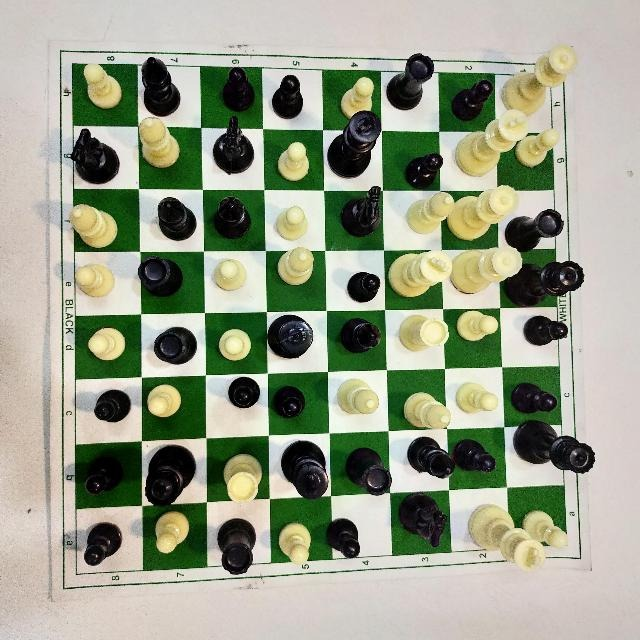black-bishop: (138, 48, 188, 115), (335, 309, 389, 364), (403, 433, 457, 481), (154, 192, 203, 244), (211, 185, 253, 240)
black-king: (326, 110, 388, 181), (278, 431, 334, 500), (264, 311, 317, 358)
black-knight: (66, 119, 125, 185), (399, 485, 451, 555), (335, 179, 391, 240), (212, 114, 258, 175)
black-pawn: (77, 446, 127, 498), (81, 518, 127, 574), (448, 74, 493, 128), (218, 65, 262, 119), (520, 312, 574, 356), (267, 68, 311, 121), (323, 515, 363, 571), (88, 382, 136, 427), (449, 436, 499, 477), (220, 377, 268, 418), (504, 378, 557, 414), (406, 149, 449, 190), (346, 263, 385, 305), (274, 379, 308, 421)
black-queen: (511, 416, 602, 479), (502, 256, 592, 306), (140, 440, 199, 502)
black-rook: (385, 45, 439, 113), (501, 202, 566, 252), (343, 441, 397, 501), (214, 515, 262, 580), (135, 252, 185, 301), (146, 323, 196, 371)
white-bishop: (62, 196, 127, 253), (137, 112, 187, 171), (403, 188, 459, 240), (396, 386, 453, 434), (334, 371, 382, 420), (272, 242, 316, 290)
white-king: (467, 500, 547, 578), (451, 107, 532, 179), (388, 248, 456, 301)
white-pawn: (79, 56, 131, 114), (454, 301, 503, 353), (524, 506, 574, 554), (150, 506, 198, 556), (512, 124, 564, 169), (271, 136, 316, 186), (334, 70, 378, 121), (207, 253, 256, 298), (456, 375, 504, 419), (217, 321, 258, 371), (85, 326, 136, 366), (73, 260, 119, 302), (277, 520, 317, 568), (271, 197, 310, 245), (146, 381, 190, 423)
white-queen: (498, 44, 581, 114), (445, 184, 521, 240), (447, 245, 522, 297)
white-rook: (219, 448, 268, 502), (397, 309, 451, 353)
